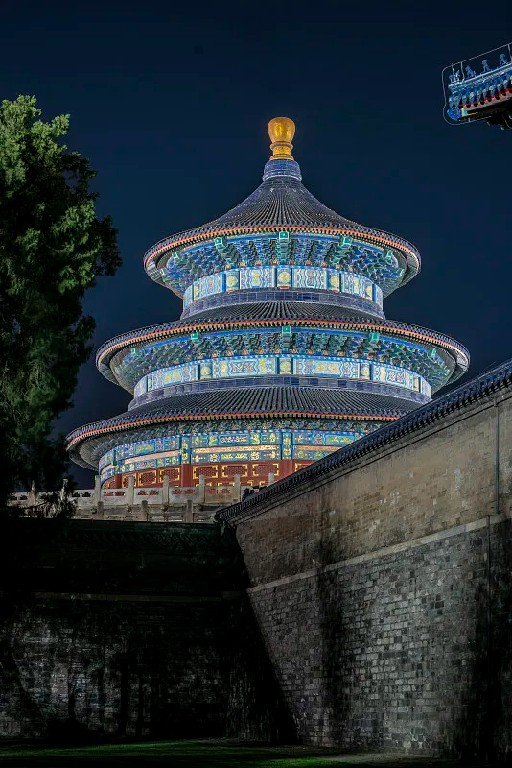Heaven: (63, 117, 472, 509)
